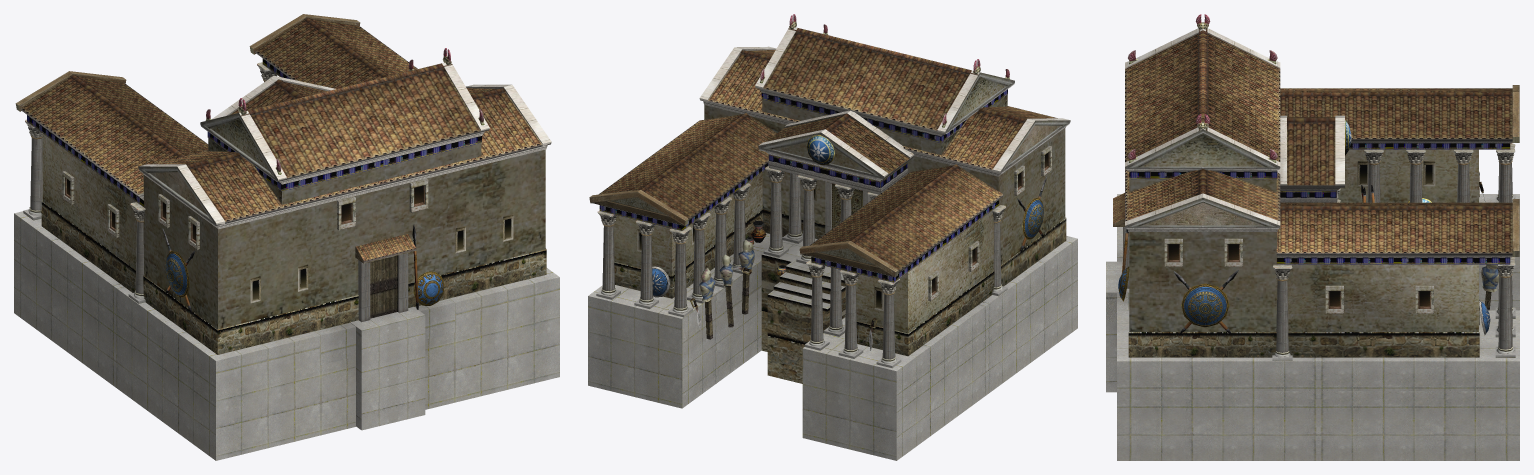
Rendered from mace_barracks.glb.
3 views of the same model, side by side, from view 1: azimuth 30°, elevation 25°; view 2: azimuth 150°, elevation 25°; view 3: azimuth 270°, elevation 25° (orthographic). The views are drawn at different scales.
Parts seen in each view (by area): view 1: mace_barracks_part1, mace_barracks_part4, mace_barracks_part0, mace_barracks_part2, mace_barracks_part3, mace_barracks_part5; view 2: mace_barracks_part1, mace_barracks_part4, mace_barracks_part0, mace_barracks_part2, mace_barracks_part5, mace_barracks_part3; view 3: mace_barracks_part1, mace_barracks_part4, mace_barracks_part0, mace_barracks_part2, mace_barracks_part3, mace_barracks_part5.
Boxes of the visible parts, x1,y1,x2,y2 form: mace_barracks_part1: (15, 14, 546, 354); mace_barracks_part4: (14, 209, 559, 460); mace_barracks_part0: (20, 17, 551, 299); mace_barracks_part2: (30, 48, 513, 322); mace_barracks_part3: (165, 250, 444, 305); mace_barracks_part5: (25, 62, 277, 222); mace_barracks_part1: (589, 31, 1066, 383); mace_barracks_part4: (588, 233, 1077, 460); mace_barracks_part0: (599, 27, 1070, 363); mace_barracks_part2: (602, 14, 1051, 359); mace_barracks_part5: (597, 166, 1005, 295); mace_barracks_part3: (652, 135, 1043, 297); mace_barracks_part1: (1113, 33, 1519, 357); mace_barracks_part4: (1106, 194, 1519, 460); mace_barracks_part0: (1125, 28, 1514, 357); mace_barracks_part2: (1121, 14, 1512, 352); mace_barracks_part3: (1118, 120, 1490, 334); mace_barracks_part5: (1273, 142, 1515, 281).
Size of the model in its own units: 3.87 by 3.34 by 4.
Materials: 6 (6 with a texture image).
